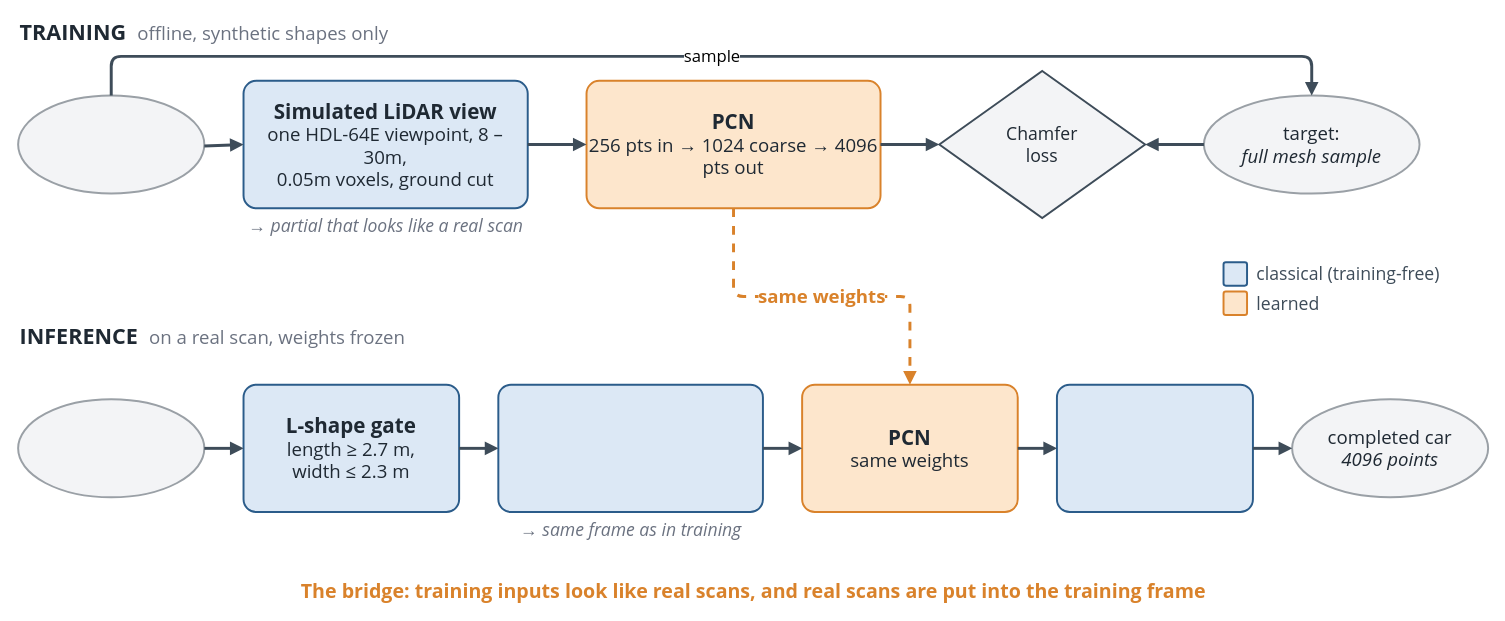
This 1505x621 diagram has some shape labels left out. The centre of each missing label's shape, as x and y in pixels:
Canonical frame rotate · centre (width prior 1.9 m) · scale ÷ 1.137: the point at 630,448
real car cluster one frame: the point at 111,448
Rotate back to the scan: the point at 1154,448
ShapeNet mesh complete shape: the point at 111,144
